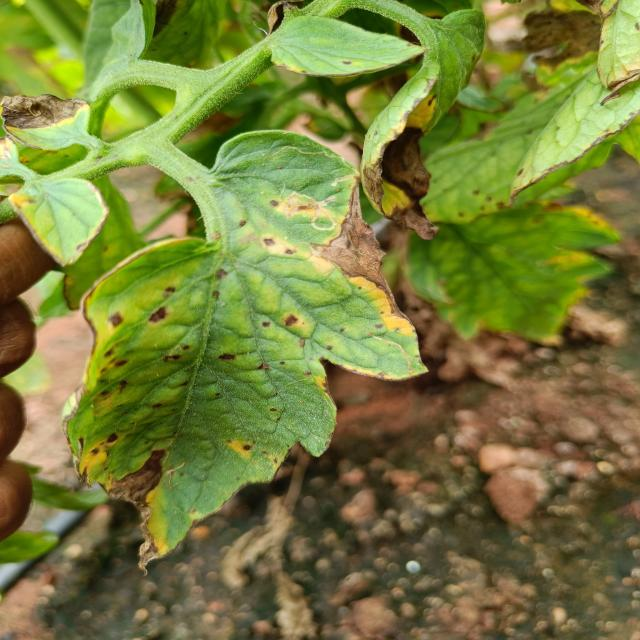Tomato mosaic virus leaf: (57, 231, 435, 578), (356, 76, 474, 250), (268, 13, 428, 81), (0, 91, 94, 154)
